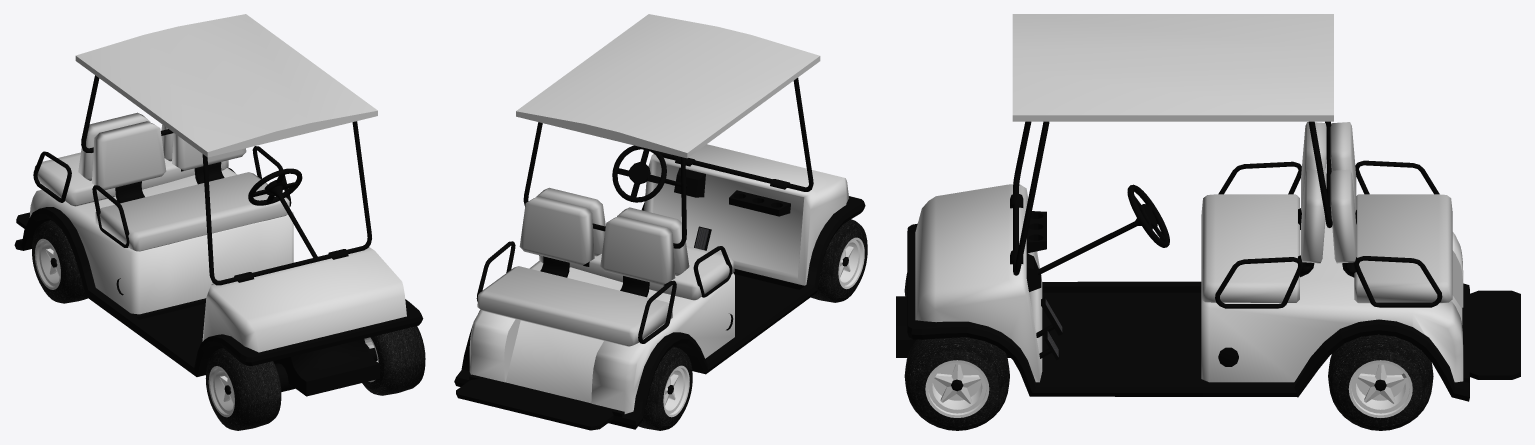
The model's file is Golf_Cart.fbxDE2D516A-37F9-4411-B78A-A99FEC3CB636.fbx.
The picture shows the model from 3 angles, left to right: view 1: azimuth 30°, elevation 25°; view 2: azimuth 150°, elevation 25°; view 3: azimuth 270°, elevation 25°; orthographic projection. The views are drawn at different scales.
Parts seen in each view (by area): view 1: Ceiling, Front seat, Hood, Rear hood, Floor, Rear seat, Frontal tire.001, Frontal tire, Ceiling support, Rear tire.001, Stering wheel, Frontal rim.001 (+4 smaller); view 2: Ceiling, Rear seat, Rear hood, Hood, Floor, Front seat, Foot support, Frontal tire.001, Rear tire.001, Stering wheel, Ceiling support, Ceiling support.001 (+6 smaller); view 3: Ceiling, Floor, Hood, Rear hood, Rear seat, Front seat, Frontal tire, Rear tire, Foot support, Rear rim, Frontal rim, Ceiling support (+7 smaller).
Boxes of the visible parts, x1,y1,x2,y2 form: Ceiling: (75,14,377,157); Front seat: (92,121,289,251); Hood: (202,247,406,352); Rear hood: (29,167,293,314); Floor: (14,167,423,396); Rear seat: (34,112,228,206); Frontal tire.001: (205,348,281,430); Frontal tire: (362,326,425,395); Ceiling support: (202,121,371,285); Rear tire.001: (32,220,87,303); Stering wheel: (248,168,317,257); Frontal rim.001: (208,366,234,417); Ceiling: (516,14,820,158); Rear seat: (477,196,675,346); Rear hood: (469,261,734,413); Hood: (644,144,848,285); Floor: (454,196,865,429); Front seat: (536,187,734,300); Foot support: (456,374,624,430); Frontal tire.001: (811,219,867,302); Rear tire.001: (638,346,692,430); Stering wheel: (612,145,687,202); Ceiling support: (660,78,813,191); Ceiling support.001: (523,122,686,248); Ceiling: (1012,14,1333,121); Floor: (896,223,1469,401); Hood: (915,184,1042,382); Rear hood: (1201,214,1463,382); Rear seat: (1330,122,1452,303); Front seat: (1201,122,1326,302); Frontal tire: (904,337,1009,430); Rear tire: (1328,334,1433,430); Foot support: (1462,288,1520,382); Rear rim: (1348,360,1412,417); Frontal rim: (925,360,989,417); Ceiling support: (1010,121,1049,275).
Bounding box in the file's own units: 339 × 456 × 803.
